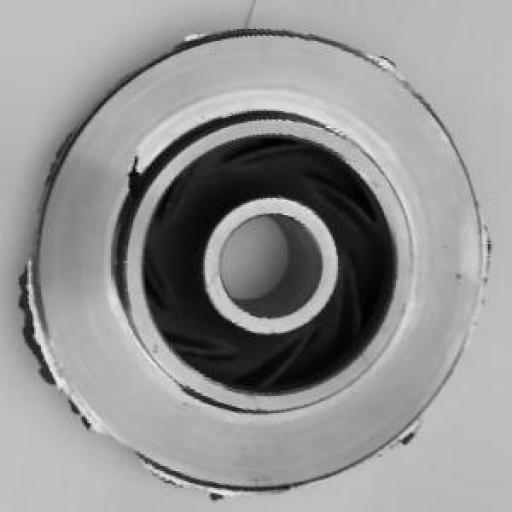defect: (14, 26, 496, 501)
